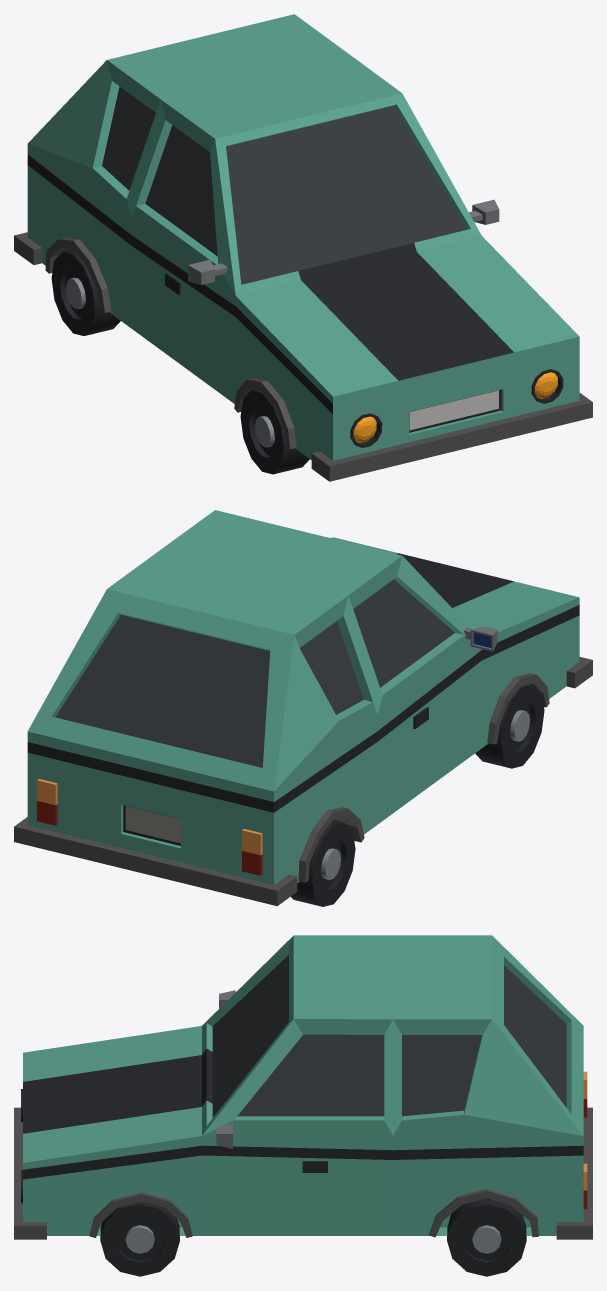
File: Car_9.fbx
The picture shows the model from 3 angles, top to bottom: view 1: azimuth 30°, elevation 25°; view 2: azimuth 150°, elevation 25°; view 3: azimuth 270°, elevation 25°; orthographic projection. The views are drawn at different scales.
Visible parts, largest first — view 1: Car_9; view 2: Car_9; view 3: Car_9.
Part boxes in pixels (<box>): Car_9: <box>14,14,592,481</box>; Car_9: <box>14,510,592,906</box>; Car_9: <box>14,935,592,1276</box>.
Size of the model in its own units: 188 by 155 by 338.
